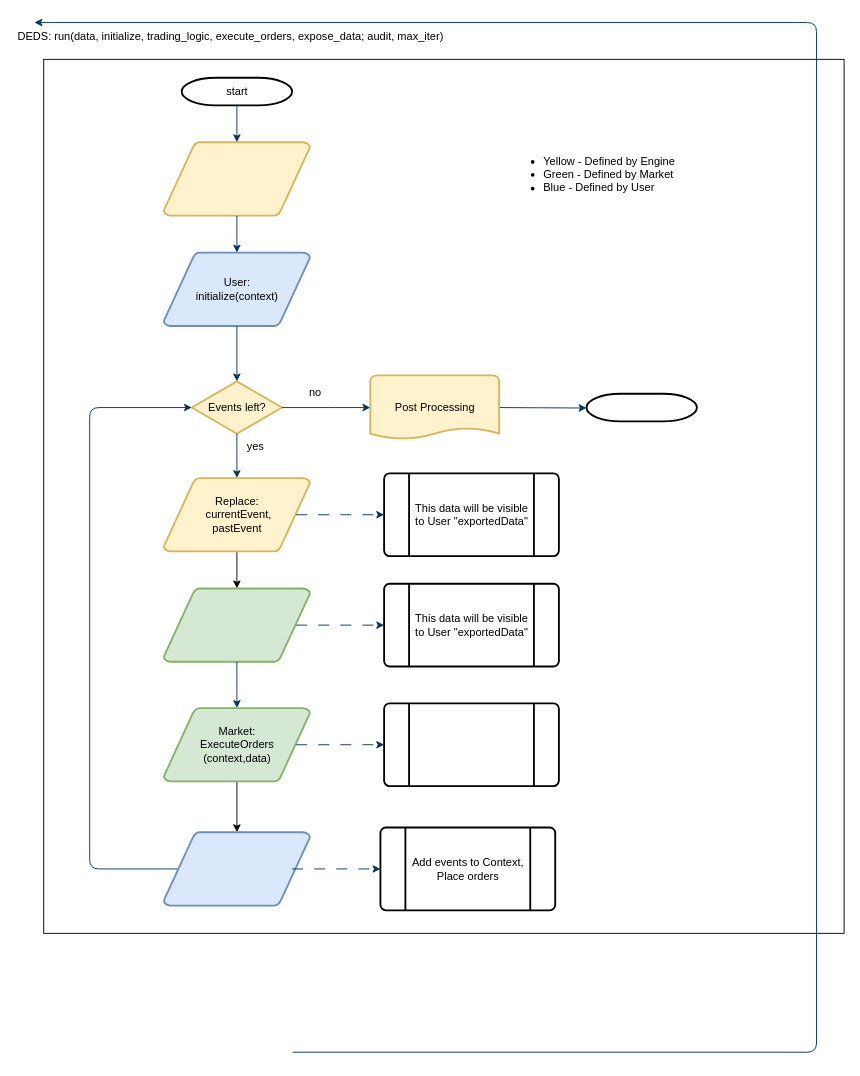
This 860x1076 diagram has some shape labels left out. Here are the shapes that lost their labels. From the top down, the centre of each, then its label:
(236,178): Prepare data, define context
(641,407): end
(236,624): Market: prepareData (context,data)
(471,744): Updates to Portfolio Live Metrics
(236,868): User: placeOrders(context, exportedData)
